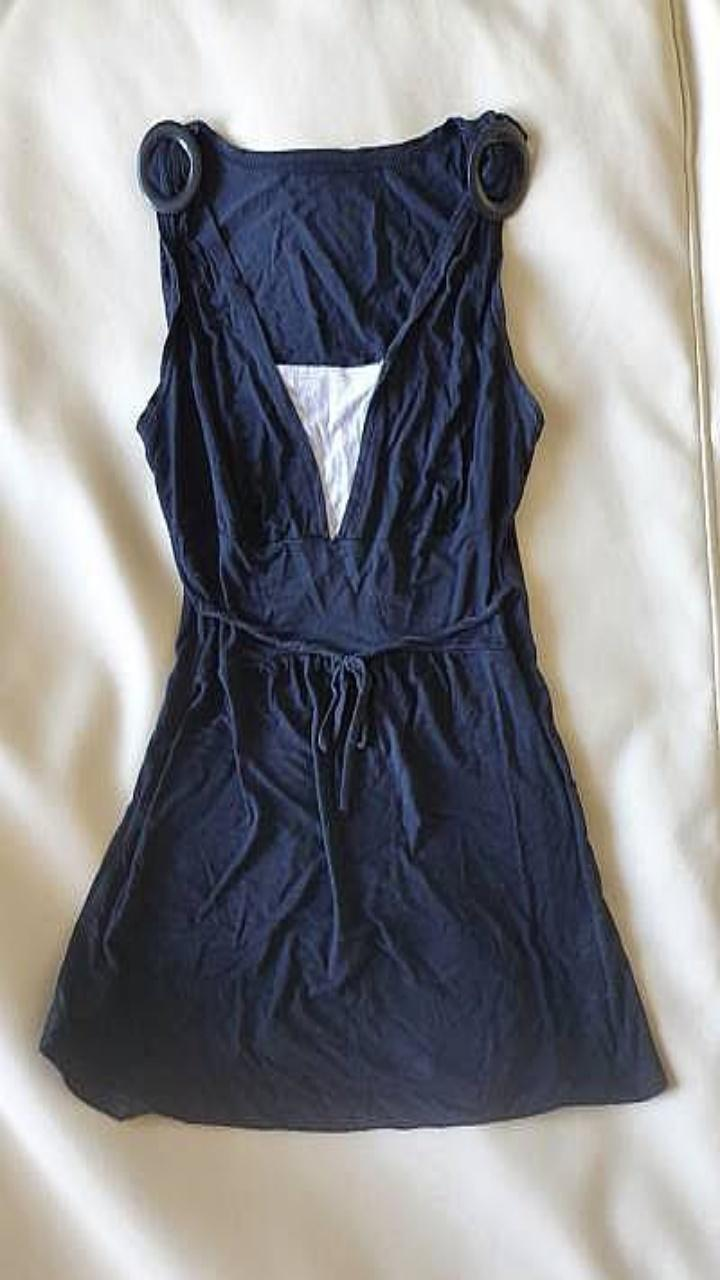Dresses: (39, 111, 666, 1129)
